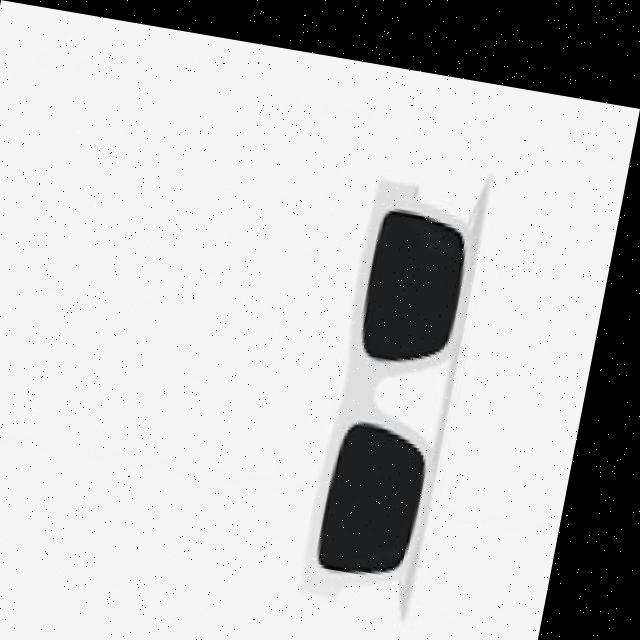gozluk: (285, 147, 515, 597)
